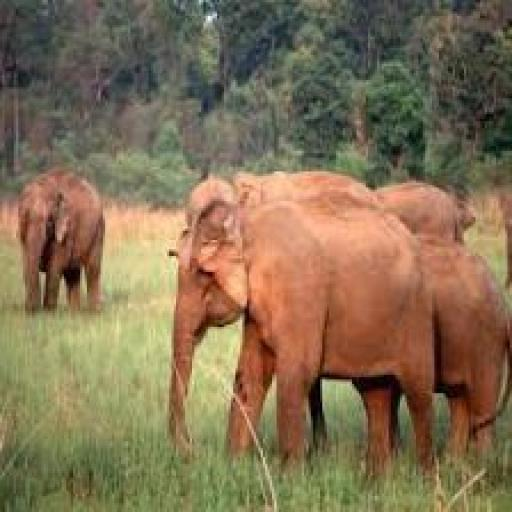Elephant: (160, 158, 512, 499), (4, 146, 126, 359)
